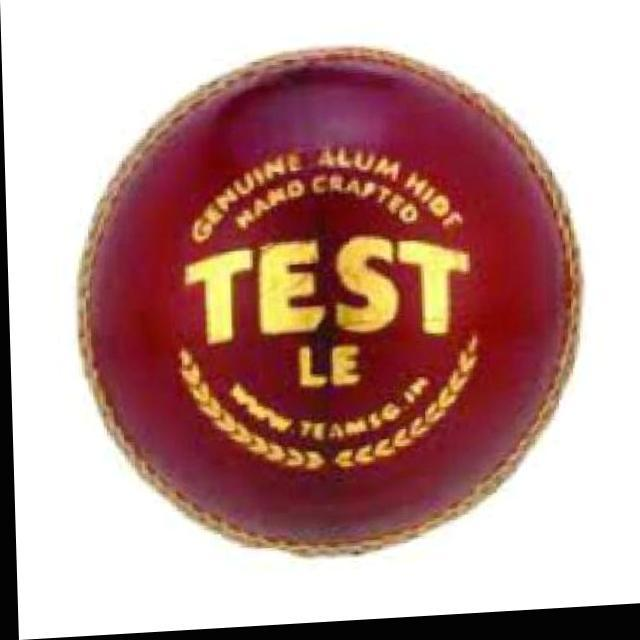-: (67, 55, 550, 548)
